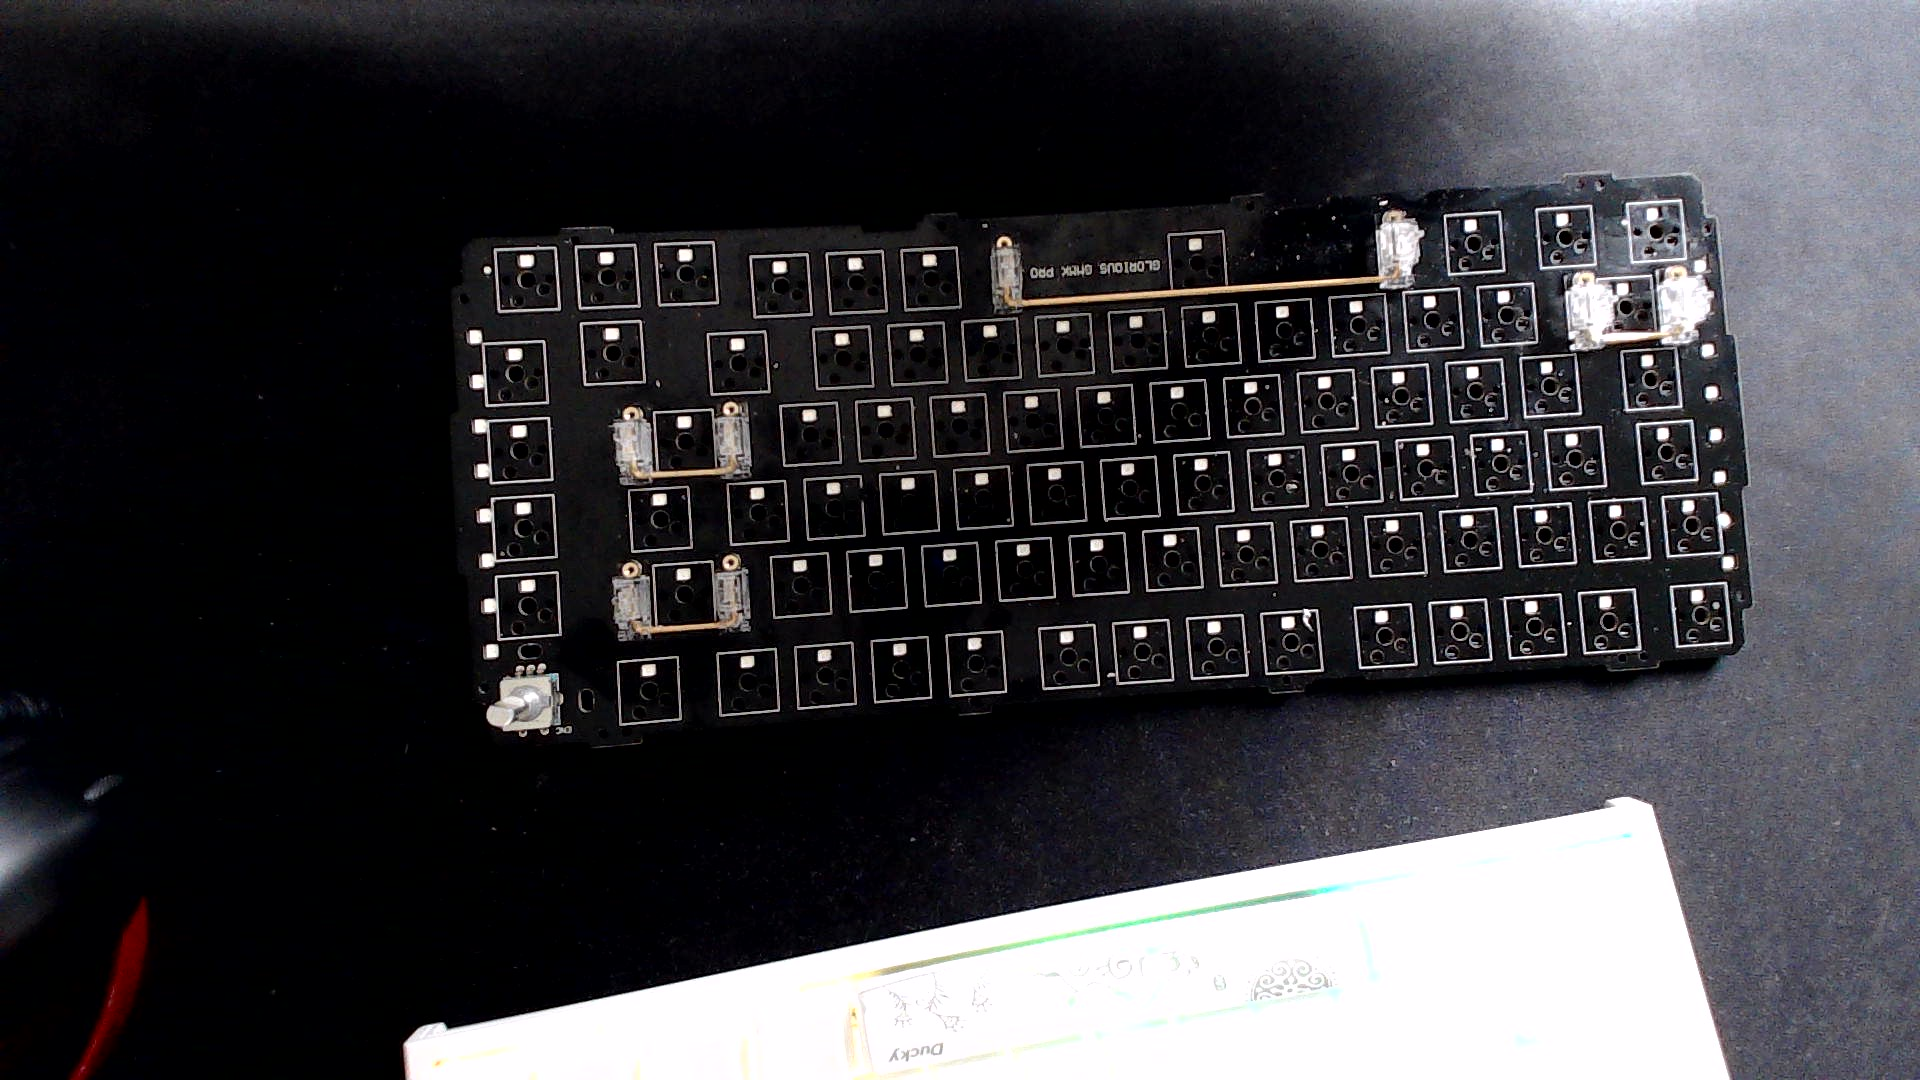pcb: (400, 150, 1801, 773)
